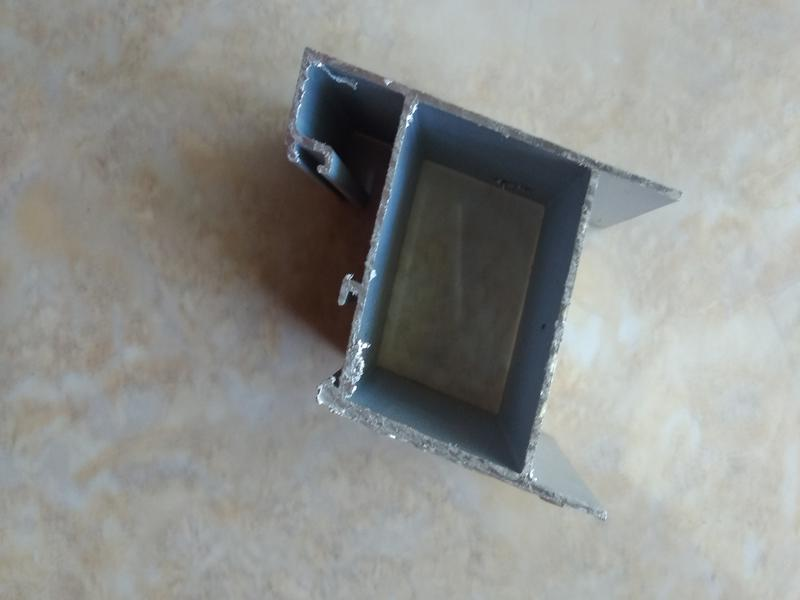Aluminium_2: (223, 26, 701, 542)
